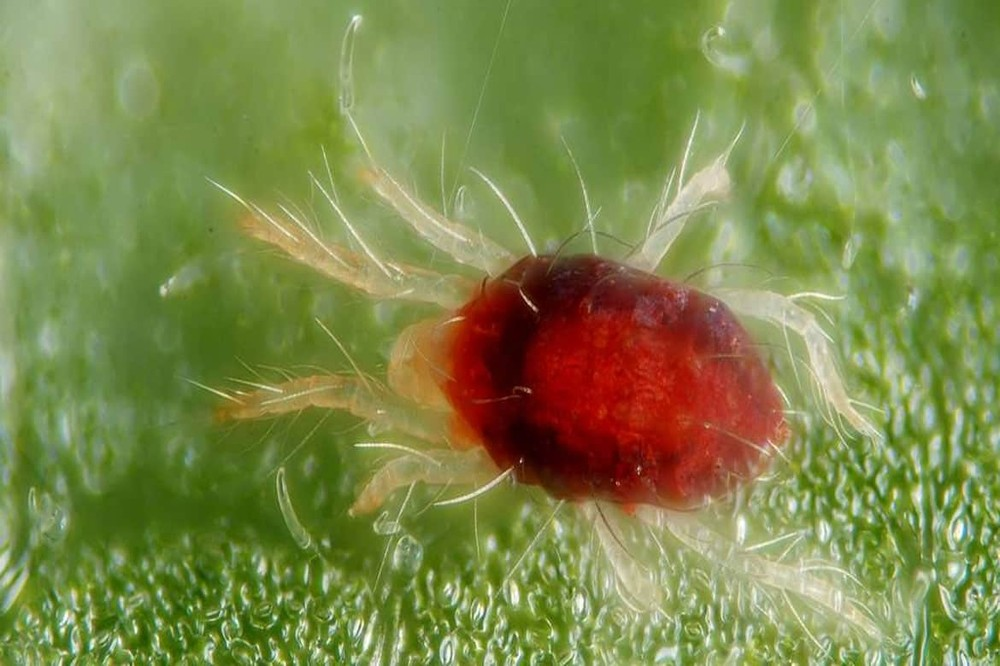Aracnido Rojo: (201, 113, 905, 629)
